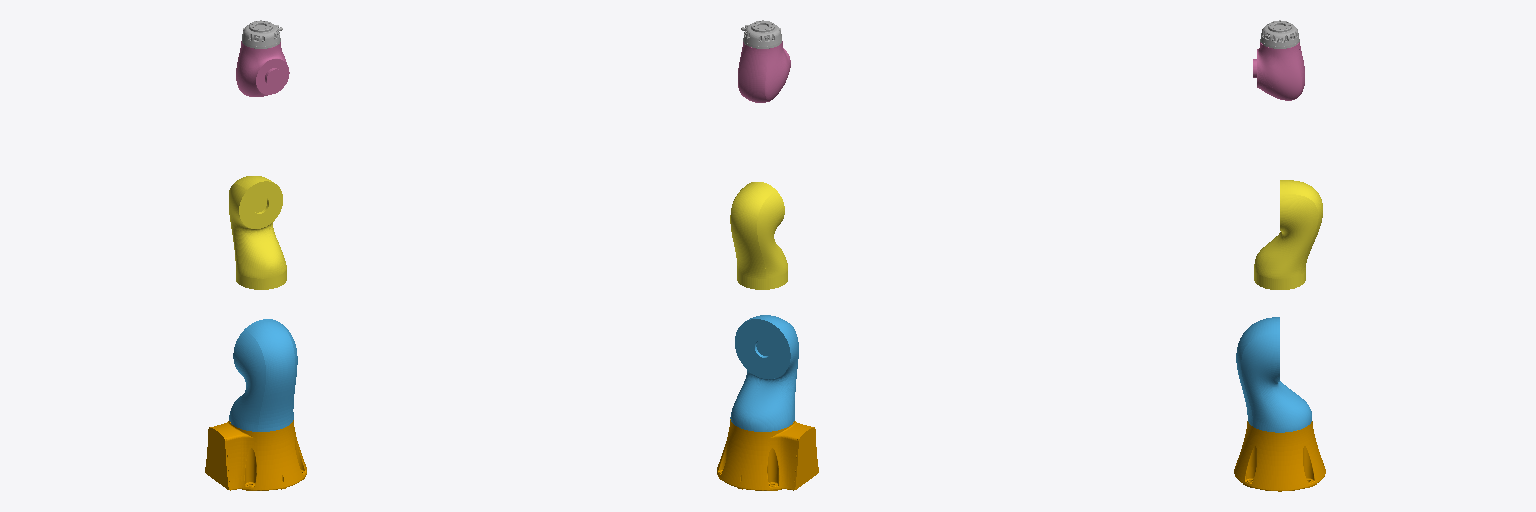
URDF robot description (ROBOT):
<?xml version='1.0' encoding='utf-8'?>
<robot name="ROBOT">
    <link name="base_link">
        <inertial>
            <origin xyz="-0.012821279222491367 4.910548542761127e-08 0.07150676297621976" rpy="0.0 0.0 0.0" />
            <mass value="42.989083662070826" />
            <inertia ixx="0.19039947779953365" iyy="0.2420448546747356" izz="0.2628141595813376" ixy="-4.1464098732953276e-07" iyz="-9.968400816723491e-08" ixz="0.005310984509618671" />
        </inertial>
        <visual name="base_link_visual">
            <origin xyz="0.0 0.0 0.0" rpy="0.0 0.0 0.0" />
            <geometry>
                <mesh filename="meshes/base_link.stl" scale="0.001 0.001 0.001" />
            </geometry>
        </visual>
        <collision name="base_link_collision">
            <origin xyz="0.0 0.0 0.0" rpy="0.0 0.0 0.0" />
            <geometry>
                <mesh filename="meshes/base_link.stl" scale="0.001 0.001 0.001" />
            </geometry>
        </collision>
    </link>
    <link name="link1">
        <inertial>
            <origin xyz="-6.191133452068936e-07 -0.03379586771595075 0.12240521219248432" rpy="0.0 -0.0 0.0" />
            <mass value="32.25288432777395" />
            <inertia ixx="0.2589133311707985" iyy="0.26120906148444245" izz="0.0967670990549662" ixy="-7.388653219918385e-07" iyz="0.038667289824777296" ixz="2.5030378038365395e-06" />
        </inertial>
        <visual name="link1_visual">
            <origin xyz="0.0 0.0 -0.1575" rpy="0.0 1.0376094823663703e-53 0.0" />
            <geometry>
                <mesh filename="meshes/link1.stl" scale="0.001 0.001 0.001" />
            </geometry>
        </visual>
        <collision name="link1_collision">
            <origin xyz="0.0 0.0 -0.1575" rpy="0.0 1.0376094823663703e-53 0.0" />
            <geometry>
                <mesh filename="meshes/link1.stl" scale="0.001 0.001 0.001" />
            </geometry>
        </collision>
    </link>
    <link name="link2">
        <inertial>
            <origin xyz="0.00015174639668545946 -0.05880271562708338 0.04198699590113204" rpy="0.0 -0.0 0.0" />
            <mass value="31.020327502985417" />
            <inertia ixx="0.2401721066054625" iyy="0.08651115128858776" izz="0.23879834088397622" ixy="-0.00025923171732073966" iyz="-0.03836110638479018" ixz="-0.00017845232069967356" />
        </inertial>
        <visual name="link2_visual">
            <origin xyz="0.0 0.36 1.5987211554602254e-16" rpy="1.5707963267948966 1.0283008370208218e-36 1.0376094823663703e-53" />
            <geometry>
                <mesh filename="meshes/link2.stl" scale="0.001 0.001 0.001" />
            </geometry>
        </visual>
        <collision name="link2_collision">
            <origin xyz="0.0 0.36 1.5987211554602254e-16" rpy="1.5707963267948966 1.0283008370208218e-36 1.0376094823663703e-53" />
            <geometry>
                <mesh filename="meshes/link2.stl" scale="0.001 0.001 0.001" />
            </geometry>
        </collision>
    </link>
    <link name="link3">
        <inertial>
            <origin xyz="-0.00029852105111103733 -0.02956066114066231 -0.12649776049034814" rpy="0.0 -0.0 0.0" />
            <mass value="24.92500194263697" />
            <inertia ixx="0.19688732722126723" iyy="0.18690533481409943" izz="0.059728330090355525" ixy="-0.00010077577990090535" iyz="-0.03826131470809846" ixz="-0.0003863519752671527" />
        </inertial>
        <visual name="link3_visual">
            <origin xyz="-0.0008724651715054144 4.405545933607868e-06 0.5645" rpy="-3.141592653589793 1.0190757017815721e-19 1.0283008370208218e-36" />
            <geometry>
                <mesh filename="meshes/link3.stl" scale="0.001 0.001 0.001" />
            </geometry>
        </visual>
        <collision name="link3_collision">
            <origin xyz="-0.0008724651715054144 4.405545933607868e-06 0.5645" rpy="-3.141592653589793 1.0190757017815721e-19 1.0283008370208218e-36" />
            <geometry>
                <mesh filename="meshes/link3.stl" scale="0.001 0.001 0.001" />
            </geometry>
        </collision>
    </link>
    <link name="link4">
        <inertial>
            <origin xyz="7.352198794749047e-05 0.06741867485402338 -0.03476463235981402" rpy="0.0 -0.0 0.0" />
            <mass value="21.504505920264382" />
            <inertia ixx="0.13504963893149227" iyy="0.0481857834272418" izz="0.1286994053312796" ixy="-9.472438096528143e-05" iyz="-0.02235270080143106" ixz="-2.437870453427058e-05" />
        </inertial>
        <visual name="link4_visual">
            <origin xyz="0.0008724645351950695 -0.7800000000000001 -0.0004955899574449524" rpy="1.5707963267948966 0.010098989929946055 -3.141592653589793" />
            <geometry>
                <mesh filename="meshes/link4.stl" scale="0.001 0.001 0.001" />
            </geometry>
        </visual>
        <collision name="link4_collision">
            <origin xyz="0.0008724645351950695 -0.7800000000000001 -0.0004955899574449524" rpy="1.5707963267948966 0.010098989929946055 -3.141592653589793" />
            <geometry>
                <mesh filename="meshes/link4.stl" scale="0.001 0.001 0.001" />
            </geometry>
        </collision>
    </link>
    <link name="link5">
        <inertial>
            <origin xyz="-9.58280913668752e-05 -0.021388017330338432 -0.07546962677792933" rpy="0.0 -0.0 0.0" />
            <mass value="13.295919295227803" />
            <inertia ixx="0.0791257429271539" iyy="0.06831754898181461" izz="0.03508501856619495" ixy="-0.0001216498911407807" iyz="-0.024259176914123656" ixz="-0.0002505593013453894" />
        </inertial>
        <visual name="link5_visual">
            <origin xyz="0.0017230936544921117 -1.2998423673351114e-05 0.9644985843320143" rpy="3.1415816397184075 -0.0010905538731963097 3.141592653589793" />
            <geometry>
                <mesh filename="meshes/link5.stl" scale="0.001 0.001 0.001" />
            </geometry>
        </visual>
        <collision name="link5_collision">
            <origin xyz="0.0017230936544921117 -1.2998423673351114e-05 0.9644985843320143" rpy="3.1415816397184075 -0.0010905538731963097 3.141592653589793" />
            <geometry>
                <mesh filename="meshes/link5.stl" scale="0.001 0.001 0.001" />
            </geometry>
        </collision>
    </link>
    <link name="link6">
        <inertial>
            <origin xyz="1.6163094588503292e-07 -0.0005654434175943379 -0.06103810860339622" rpy="0.0 -1.8114790666741019e-41 9.4039548065783e-38" />
            <mass value="14.198107658606093" />
            <inertia ixx="0.03842432799799932" iyy="0.0279979201680453" izz="0.03678328073924154" ixy="2.3781260173524744e-08" iyz="0.0019194277783606754" ixz="2.6808967032118138e-08" />
        </inertial>
        <visual name="link6_visual">
            <origin xyz="0.0004362246588066237 1.1799997599999998 -0.0607044053902454" rpy="-1.5707963267948966 -0.010098989929946055 -3.141592653589793" />
            <geometry>
                <mesh filename="meshes/link6.stl" scale="0.001 0.001 0.001" />
            </geometry>
        </visual>
        <collision name="link6_collision">
            <origin xyz="0.0004362246588066237 1.1799997599999998 -0.0607044053902454" rpy="-1.5707963267948966 -0.010098989929946055 -3.141592653589793" />
            <geometry>
                <mesh filename="meshes/link6.stl" scale="0.001 0.001 0.001" />
            </geometry>
        </collision>
    </link>
    <link name="end_link">
        <inertial>
            <origin xyz="8.635244650747352e-05 1.5582139595938037e-05 -0.017452161452146838" rpy="0.0 -0.0 0.0" />
            <mass value="2.4431344682700122" />
            <inertia ixx="0.0017785387583084677" iyy="0.001788654507748788" izz="0.0026850439720901335" ixy="8.517208330104706e-07" iyz="5.077818422243447e-07" ixz="1.755566814256107e-06" />
        </inertial>
        <visual name="end_link_visual">
            <origin xyz="-0.00043624517175836755 -4.454063780886912e-09 1.2608997599999998" rpy="-3.141592653589793 6.442307711273835e-33 -3.3306690738754696e-16" />
            <geometry>
                <mesh filename="meshes/end_link.stl" scale="0.001 0.001 0.001" />
            </geometry>
        </visual>
        <collision name="end_link_collision">
            <origin xyz="-0.00043624517175836755 -4.454063780886912e-09 1.2608997599999998" rpy="-3.141592653589793 6.442307711273835e-33 -3.3306690738754696e-16" />
            <geometry>
                <mesh filename="meshes/end_link.stl" scale="0.001 0.001 0.001" />
            </geometry>
        </collision>
    </link>    
    <joint name="link6_Revolute-1" type="continuous">
        <origin xyz="1.7780746906087554e-09 -0.08089999999999989 -0.06069999537569996" rpy="1.5707963267948966 -0.010098989929946055 -3.141592653589793" />
        <parent link="link6" />
        <child link="end_link" />
        <axis xyz="0.0 0.0 1.0" />
    </joint>
    <joint name="link5_Revolute-2" type="continuous">
        <origin xyz="-0.0006130046756025827 -0.060696906508466646 -0.21549999815439805" rpy="1.5707963267948966 0.0010906094881570978 -0.010098995935556701" />
        <parent link="link5" />
        <child link="link6" />
        <axis xyz="-1.817821338474107e-07 4.23516471240679e-20 0.9999999962009835" />
    </joint>
    <joint name="link4_Revolute-3" type="continuous">
        <origin xyz="0.00020121960371456644 0.18449989000000003 -0.0004999934166376121" rpy="1.5707963267948966 -0.010098995935556701 -0.0010906094881570976" />
        <parent link="link4" />
        <child link="link5" />
        <axis xyz="-4.467846914046024e-07 -1.38603723978461e-08 0.9999995952013182" />
    </joint>
    <joint name="link3_Revolute-4" type="continuous">
        <origin xyz="-5.05e-06 -0.00049997 -0.21549999999999997" rpy="-1.5707963267948966 -1.0971150267483282e-125 3.1314936636598474" />
        <parent link="link3" />
        <child link="link4" />
        <axis xyz="1.817821338474107e-07 0.0 0.9999999962009835" />
    </joint>
    <joint name="link2_Revolute-5" type="continuous">
        <origin xyz="0.0 -0.20450000000000004 0.0" rpy="-1.5707963267948966 -1.1272377867116293e-176 0.0" />
        <parent link="link2" />
        <child link="link3" />
        <axis xyz="0.0 -1.0863796118563342e-123 1.0" />
    </joint>
    <joint name="link1_Revolute-6" type="continuous">
        <origin xyz="0.0 0.0 0.2025" rpy="-1.5707963267948966 -0.0 0.0" />
        <parent link="link1" />
        <child link="link2" />
        <axis xyz="0.0 0.0 1.0" />
    </joint>
    <joint name="base_link_Revolute-7" type="continuous">
        <origin xyz="0.0 0.0 0.1575" rpy="0.0 -0.0 0.0" />
        <parent link="base_link" />
        <child link="link1" />
        <axis xyz="0.0 0.0 1.0" />
    </joint>

</robot>

--- What the picture shows (computed from the rendered views, not written in the file) ---
The picture shows the robot from 3 angles, left to right: view 1: azimuth 30°, elevation 25°; view 2: azimuth 150°, elevation 25°; view 3: azimuth 270°, elevation 25°; orthographic projection.
Model ROBOT with 8 links and 7 joints (7 continuous), rooted at base_link, posed all joints at 0.
Visible links, largest first — view 1: link1, base_link, link3, link6, end_link; view 2: link1, base_link, link3, link6, end_link; view 3: link1, base_link, link3, link6, end_link.
Link boxes in pixels (<box>): link1: <box>229,319,297,431</box>; base_link: <box>205,420,306,490</box>; link3: <box>229,176,286,289</box>; link6: <box>236,41,289,96</box>; end_link: <box>242,20,282,48</box>; link1: <box>730,315,798,431</box>; base_link: <box>717,419,818,490</box>; link3: <box>730,182,787,289</box>; link6: <box>738,41,790,102</box>; end_link: <box>741,20,781,48</box>; link1: <box>1236,317,1311,432</box>; base_link: <box>1234,421,1325,491</box>; link3: <box>1254,180,1322,289</box>; link6: <box>1253,42,1304,100</box>; end_link: <box>1260,20,1299,48</box>.
Bounding box of the posed robot: 0.2575 × 0.2429 × 1.31 m (x, y, z).
Meshes: 8 distinct files referenced, 5 mesh visuals loaded (5 binary STL); not drawn: 3 (reference not matched to a file when rendering).